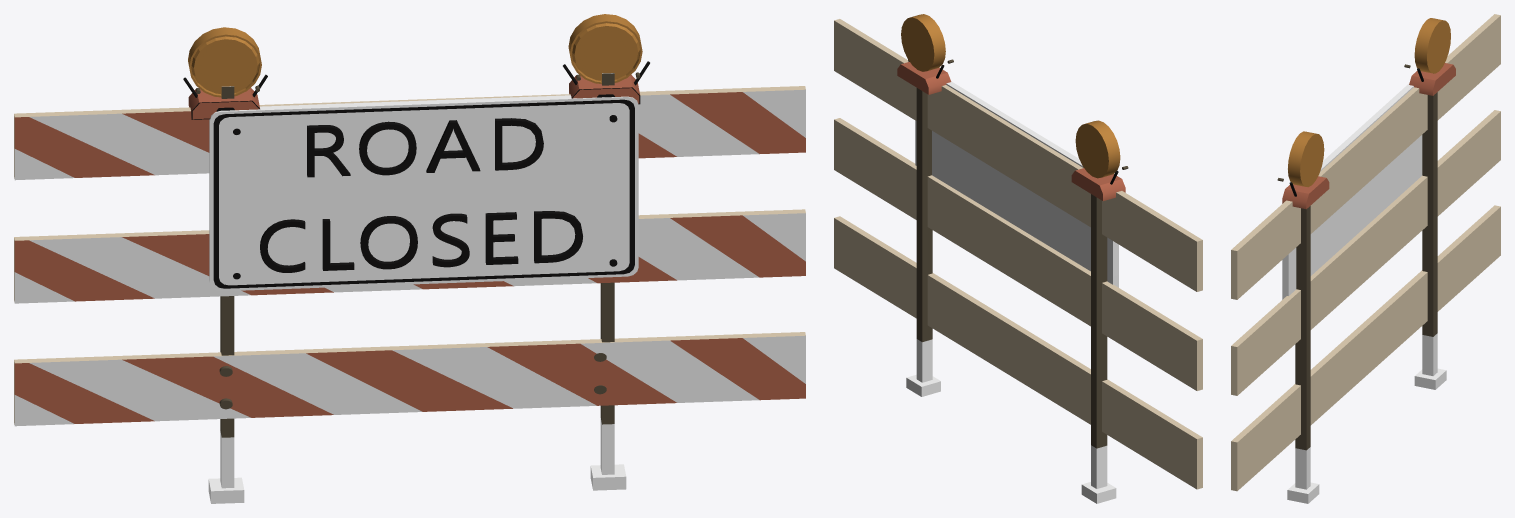
Rendered from Do Not Cross.glb.
3 renders of one model, left to right at view 1: azimuth 30°, elevation 25°; view 2: azimuth 150°, elevation 25°; view 3: azimuth 270°, elevation 25°, orthographic. The views are drawn at different scales.
Parts seen in each view (by area): view 1: polySurface101_white_0, polySurface101_red_0, polySurface101_black_0, polySurface101_orange_0, polySurface101_of_white_0, polySurface101_pole_0; view 2: polySurface101_of_white_0, polySurface101_white_0, polySurface101_pole_0, polySurface101_orange_0, polySurface101_red_0; view 3: polySurface101_of_white_0, polySurface101_white_0, polySurface101_pole_0, polySurface101_orange_0, polySurface101_red_0.
Boxes of the visible parts, x1=… form: polySurface101_white_0: x1=14, y1=89, x2=805, y2=503; polySurface101_red_0: x1=14, y1=74, x2=805, y2=423; polySurface101_black_0: x1=183, y1=61, x2=649, y2=288; polySurface101_orange_0: x1=188, y1=14, x2=642, y2=97; polySurface101_of_white_0: x1=14, y1=86, x2=805, y2=424; polySurface101_pole_0: x1=196, y1=72, x2=640, y2=437; polySurface101_of_white_0: x1=834, y1=19, x2=1202, y2=489; polySurface101_white_0: x1=906, y1=81, x2=1118, y2=503; polySurface101_pole_0: x1=916, y1=59, x2=1128, y2=448; polySurface101_orange_0: x1=901, y1=14, x2=1120, y2=178; polySurface101_red_0: x1=897, y1=62, x2=1125, y2=201; polySurface101_of_white_0: x1=1231, y1=14, x2=1500, y2=491; polySurface101_white_0: x1=1282, y1=83, x2=1446, y2=503; polySurface101_pole_0: x1=1277, y1=64, x2=1437, y2=450; polySurface101_orange_0: x1=1288, y1=18, x2=1450, y2=187; polySurface101_red_0: x1=1282, y1=63, x2=1455, y2=209.
Bounding box in the file's own units: 1.62 × 1.15 × 0.7784.
